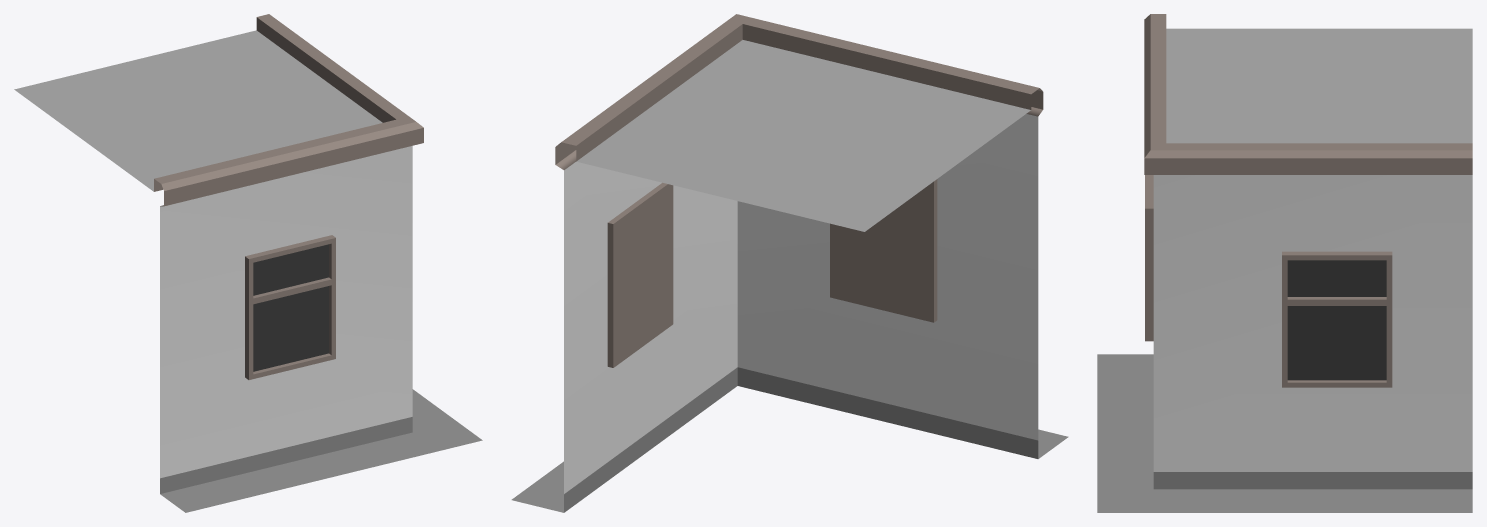
File: house_exteriorCorner_mesh.fbx
The picture shows the model from 3 angles, left to right: view 1: azimuth 30°, elevation 25°; view 2: azimuth 150°, elevation 25°; view 3: azimuth 270°, elevation 25°; orthographic projection. The views are drawn at different scales.
Visible parts, largest first — view 1: house_exteriorCorner_mesh; view 2: house_exteriorCorner_mesh; view 3: house_exteriorCorner_mesh.
Boxes of the visible parts, box(x1,y1,x2,y2) form: house_exteriorCorner_mesh: box(14, 14, 482, 512); house_exteriorCorner_mesh: box(511, 14, 1068, 512); house_exteriorCorner_mesh: box(1097, 14, 1472, 512).
Size of the model in its own units: 1 by 1 by 1.
